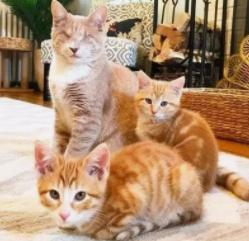橘猫: (104, 78, 217, 225)
